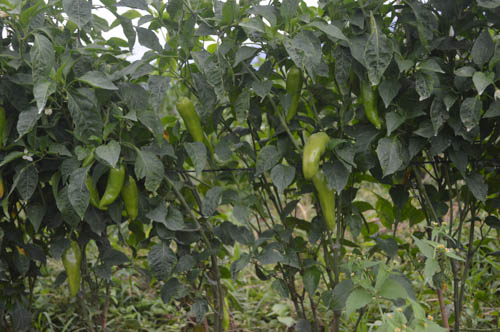ChiliPepper: (303, 130, 331, 181), (176, 100, 204, 145), (314, 173, 336, 228), (98, 163, 122, 210), (361, 75, 381, 129), (282, 67, 298, 126), (64, 248, 83, 292), (121, 178, 139, 223)
